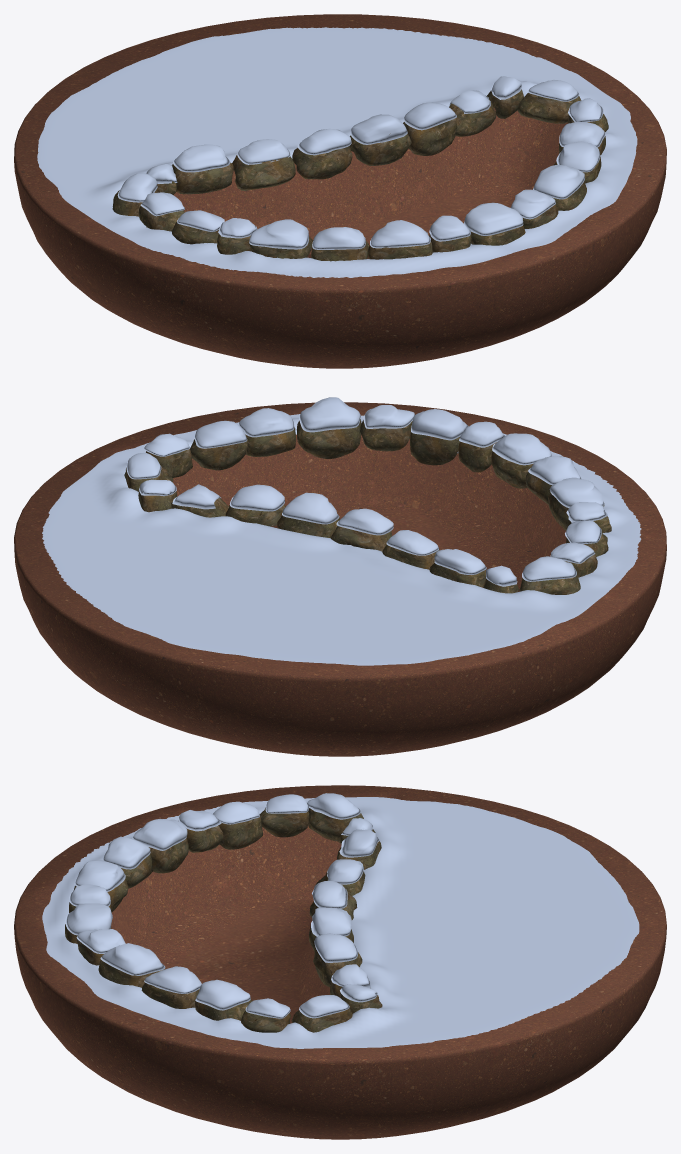
The model's file is land.glb.
3 views of the same model, one above another, from view 1: azimuth 30°, elevation 25°; view 2: azimuth 150°, elevation 25°; view 3: azimuth 270°, elevation 25° (orthographic).
Visible parts, largest first — view 1: ground, snow, rock.002, rock.001, snowRock.008, snowRock.010, snowRock.007, snowRock.009, snowRock.001, snowRock.014, snowRock.017, snowRock.002 (+14 smaller); view 2: ground, snow, rock.002, rock.001, snowRock.007, snowRock.009, snowRock.008, snowRock.001, snowRock.020, snowRock.002, snowRock.006, snowRock.010 (+14 smaller); view 3: ground, snow, rock.002, rock.001, snowRock.007, snowRock.010, snowRock.006, snowRock.008, snowRock.009, snowRock.020, snowRock.017, snowRock.001 (+14 smaller).
Part boxes in pixels (box(x1,y1,x2,y2)): ground: box(14, 14, 666, 368); snow: box(37, 27, 637, 277); rock.002: box(112, 93, 605, 259); rock.001: box(138, 89, 608, 261); snowRock.008: box(464, 202, 523, 235); snowRock.010: box(249, 219, 308, 249); snowRock.007: box(533, 164, 584, 199); snowRock.009: box(370, 220, 430, 248); snowRock.001: box(351, 114, 407, 144); snowRock.014: box(173, 144, 230, 172); snowRock.017: box(312, 227, 365, 249); snowRock.002: box(404, 102, 456, 130); ground: box(14, 402, 666, 756); snow: box(42, 414, 641, 665); rock.002: box(124, 419, 608, 594); rock.001: box(138, 420, 611, 587); snowRock.007: box(299, 397, 360, 432); snowRock.009: box(492, 433, 551, 465); snowRock.008: box(411, 409, 468, 440); snowRock.001: box(282, 492, 339, 524); snowRock.020: box(238, 408, 294, 437); snowRock.002: box(229, 484, 284, 511); snowRock.006: box(194, 420, 247, 448); snowRock.010: box(549, 477, 603, 507); ground: box(14, 785, 666, 1139); snow: box(42, 797, 639, 1048); rock.002: box(65, 808, 375, 1032); rock.001: box(69, 807, 382, 1032); snowRock.007: box(100, 943, 165, 975); snowRock.010: box(132, 818, 187, 850); snowRock.006: box(195, 979, 250, 1010); snowRock.008: box(65, 903, 112, 935); snowRock.009: box(74, 860, 125, 891); snowRock.020: box(144, 966, 201, 993); snowRock.017: box(103, 836, 150, 869); snowRock.001: box(311, 907, 351, 936).
Bounding box in the file's own units: 2.05 × 0.6665 × 2.05.
3 materials, 2 textured.
